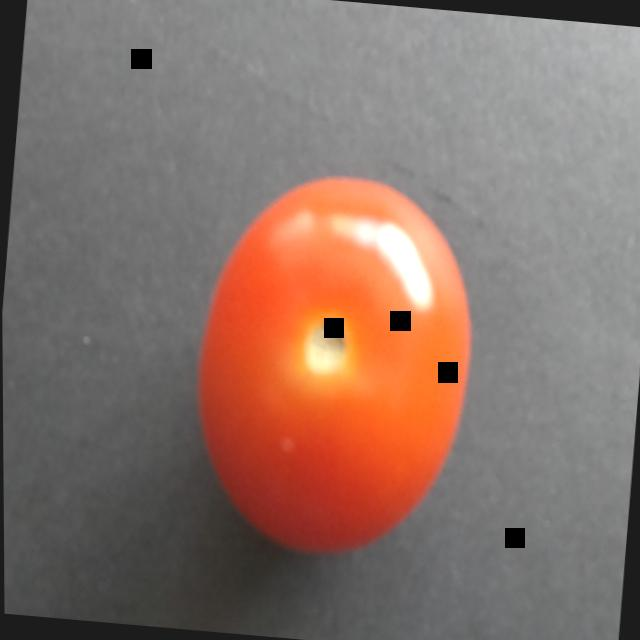Tomato: (134, 102, 539, 624)
